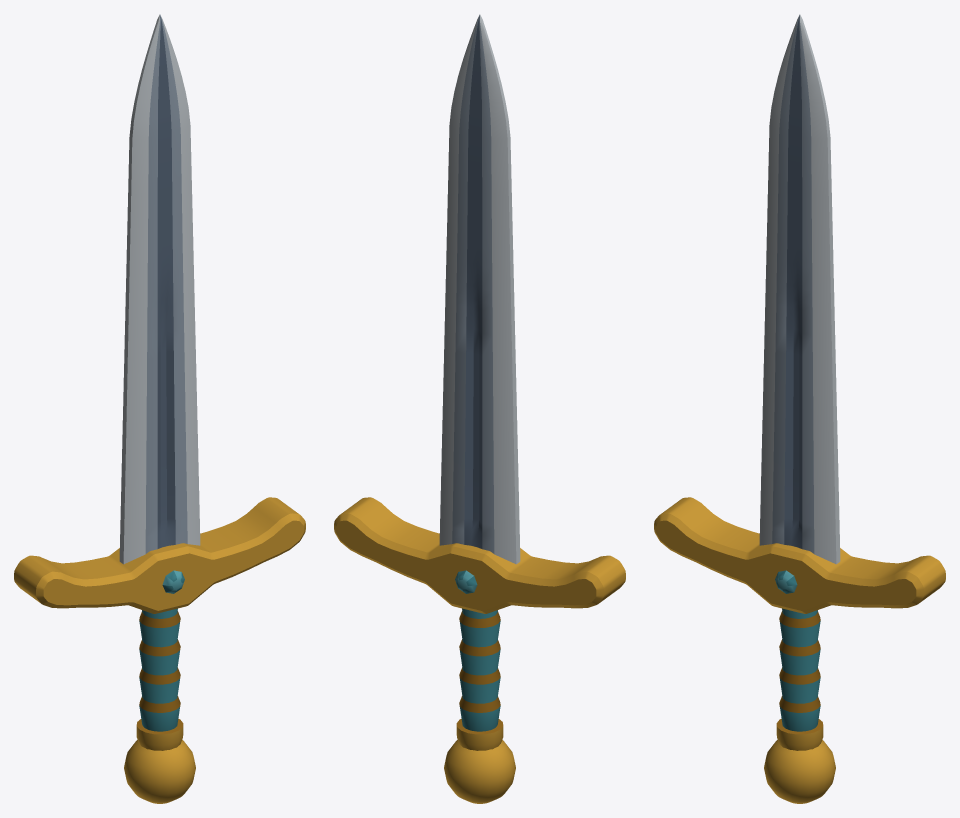
File: Longsword_05.glb
3 renders of one model, left to right at view 1: azimuth 30°, elevation 25°; view 2: azimuth 150°, elevation 25°; view 3: azimuth 330°, elevation 25°, orthographic.
Parts seen in each view (by area): view 1: Longsword_05; view 2: Longsword_05; view 3: Longsword_05.
Boxes of the visible parts, x1,y1,x2,y2 form: Longsword_05: (14, 14, 305, 803); Longsword_05: (334, 14, 625, 803); Longsword_05: (654, 14, 945, 803).
Bounding box in the file's own units: 2.56 × 7.14 × 0.594.
